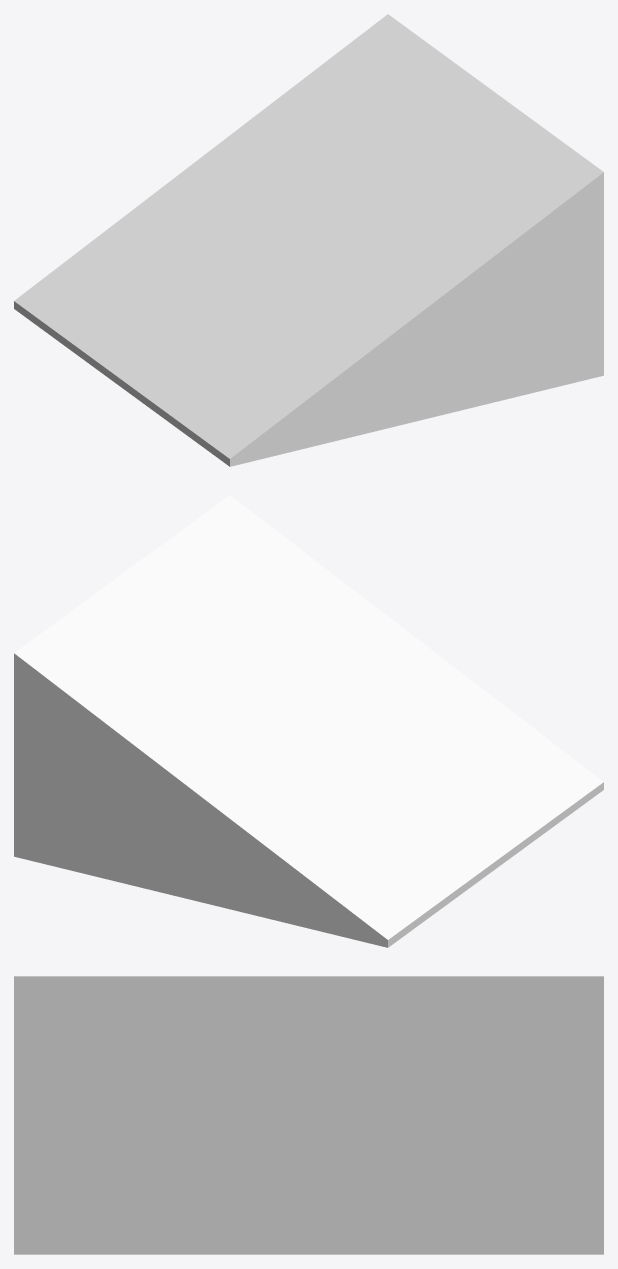
File: tile-slantHigh.glb
3 views of the same model, one above another, from view 1: azimuth 30°, elevation 25°; view 2: azimuth 150°, elevation 25°; view 3: azimuth 270°, elevation 25° (orthographic). The views are drawn at different scales.
Parts seen in each view (by area): view 1: tile-slantHigh; view 2: tile-slantHigh; view 3: tile-slantHigh.
Boxes of the visible parts, left/top/right/bottom form: tile-slantHigh: left=14, top=14, right=603, bottom=466; tile-slantHigh: left=14, top=495, right=603, bottom=947; tile-slantHigh: left=14, top=976, right=603, bottom=1254.
Size of the model in its own units: 1 by 0.52 by 1.
1 material, 1 textured.
